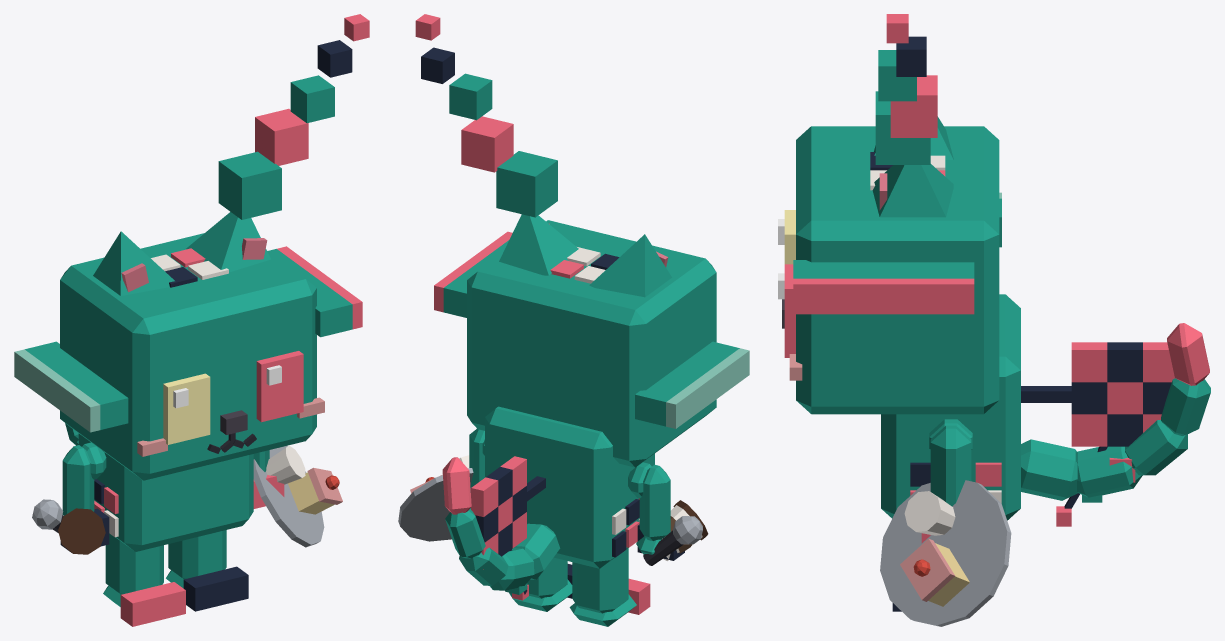
File: CatCafe_Cat_Glitch_Work.glb
The picture shows the model from 3 angles, left to right: view 1: azimuth 30°, elevation 25°; view 2: azimuth 150°, elevation 25°; view 3: azimuth 270°, elevation 25°; orthographic projection. The views are drawn at different scales.
Visible parts, largest first — view 1: CatCafe_Cat_Glitch_Work_Head, CatCafe_Cat_Glitch_Work_Body, CatCafe_Cat_Glitch_Work_Prop, CatCafe_Cat_Glitch_Work_Glow, CatCafe_Cat_Glitch_Work_Held_Waiter, CatCafe_Cat_Glitch_Work_LegB2, CatCafe_Cat_Glitch_Work_LegB1, CatCafe_Cat_Glitch_Work_Eye1, CatCafe_Cat_Glitch_Work_Eye2, CatCafe_Cat_Glitch_Work_EarL, CatCafe_Cat_Glitch_Work_EarR, CatCafe_Cat_Glitch_Work_LegF2 (+3 smaller); view 2: CatCafe_Cat_Glitch_Work_Head, CatCafe_Cat_Glitch_Work_Body, CatCafe_Cat_Glitch_Work_Prop, CatCafe_Cat_Glitch_Work_Glow, CatCafe_Cat_Glitch_Work_Tail, CatCafe_Cat_Glitch_Work_LegB2, CatCafe_Cat_Glitch_Work_EarL, CatCafe_Cat_Glitch_Work_EarR, CatCafe_Cat_Glitch_Work_Held_Waiter, CatCafe_Cat_Glitch_Work_Sprite_Glow, CatCafe_Cat_Glitch_Work_LegF2, CatCafe_Cat_Glitch_Work_Prop2 (+4 smaller); view 3: CatCafe_Cat_Glitch_Work_Head, CatCafe_Cat_Glitch_Work_Held_Waiter, CatCafe_Cat_Glitch_Work_Body, CatCafe_Cat_Glitch_Work_Tail, CatCafe_Cat_Glitch_Work_Glow, CatCafe_Cat_Glitch_Work_Prop, CatCafe_Cat_Glitch_Work_Sprite_Glow, CatCafe_Cat_Glitch_Work_Prop2, CatCafe_Cat_Glitch_Work_EarL, CatCafe_Cat_Glitch_Work_LegF1, CatCafe_Cat_Glitch_Work_Eye1, CatCafe_Cat_Glitch_Work_Eye2.
Part boxes in pixels (box(x1,y1,x2,y2)): CatCafe_Cat_Glitch_Work_Head: box(60, 233, 324, 480); CatCafe_Cat_Glitch_Work_Body: box(78, 433, 253, 551); CatCafe_Cat_Glitch_Work_Prop: box(25, 40, 352, 429); CatCafe_Cat_Glitch_Work_Glow: box(14, 14, 369, 432); CatCafe_Cat_Glitch_Work_Held_Waiter: box(253, 445, 342, 547); CatCafe_Cat_Glitch_Work_LegB2: box(103, 533, 185, 626); CatCafe_Cat_Glitch_Work_LegB1: box(166, 530, 248, 611); CatCafe_Cat_Glitch_Work_Eye1: box(256, 351, 303, 422); CatCafe_Cat_Glitch_Work_Eye2: box(163, 373, 210, 444); CatCafe_Cat_Glitch_Work_EarL: box(186, 212, 270, 272); CatCafe_Cat_Glitch_Work_EarR: box(93, 231, 174, 295); CatCafe_Cat_Glitch_Work_LegF2: box(60, 445, 109, 552); CatCafe_Cat_Glitch_Work_Head: box(467, 220, 716, 467); CatCafe_Cat_Glitch_Work_Body: box(482, 406, 654, 568); CatCafe_Cat_Glitch_Work_Prop: box(421, 47, 739, 426); CatCafe_Cat_Glitch_Work_Glow: box(415, 14, 749, 428); CatCafe_Cat_Glitch_Work_Tail: box(442, 457, 560, 590); CatCafe_Cat_Glitch_Work_LegB2: box(569, 548, 650, 626); CatCafe_Cat_Glitch_Work_EarL: box(499, 214, 578, 275); CatCafe_Cat_Glitch_Work_EarR: box(589, 234, 671, 297); CatCafe_Cat_Glitch_Work_Held_Waiter: box(398, 455, 473, 541); CatCafe_Cat_Glitch_Work_Sprite_Glow: box(471, 456, 528, 600); CatCafe_Cat_Glitch_Work_LegF2: box(636, 464, 684, 560); CatCafe_Cat_Glitch_Work_Prop2: box(475, 466, 545, 594); CatCafe_Cat_Glitch_Work_Head: box(782, 126, 999, 414); CatCafe_Cat_Glitch_Work_Held_Waiter: box(880, 480, 1011, 626); CatCafe_Cat_Glitch_Work_Body: box(881, 294, 1020, 520); CatCafe_Cat_Glitch_Work_Tail: box(1021, 323, 1210, 500); CatCafe_Cat_Glitch_Work_Glow: box(793, 14, 1001, 314); CatCafe_Cat_Glitch_Work_Prop: box(793, 36, 1001, 278); CatCafe_Cat_Glitch_Work_Sprite_Glow: box(1056, 342, 1174, 526); CatCafe_Cat_Glitch_Work_Prop2: box(1021, 342, 1171, 508); CatCafe_Cat_Glitch_Work_EarL: box(872, 164, 953, 217); CatCafe_Cat_Glitch_Work_LegF1: box(921, 425, 971, 543); CatCafe_Cat_Glitch_Work_Eye1: box(778, 264, 795, 357); CatCafe_Cat_Glitch_Work_Eye2: box(778, 210, 795, 264).
Size of the model in its own units: 1.59 by 2.71 by 1.62.
1 material, 1 textured.
